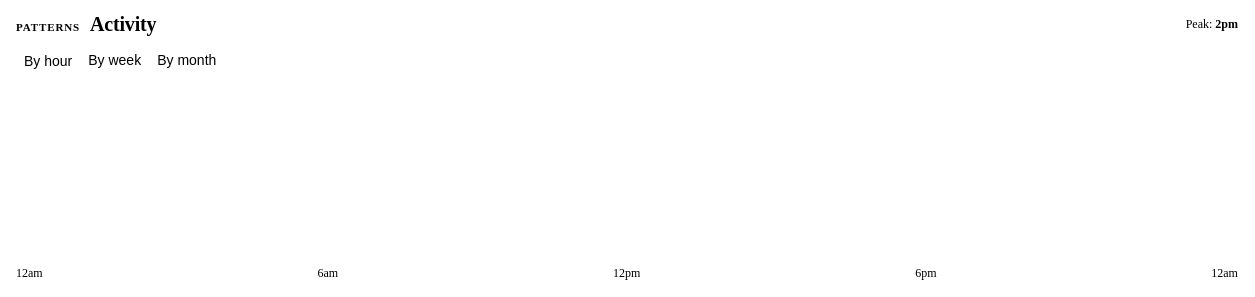
ActivitySection peak callout › shows peak weekday label on weekday tab
Step 1. Click the button with class "activity-tab" showing "By week" → (115, 61), box [80,48,149,74]
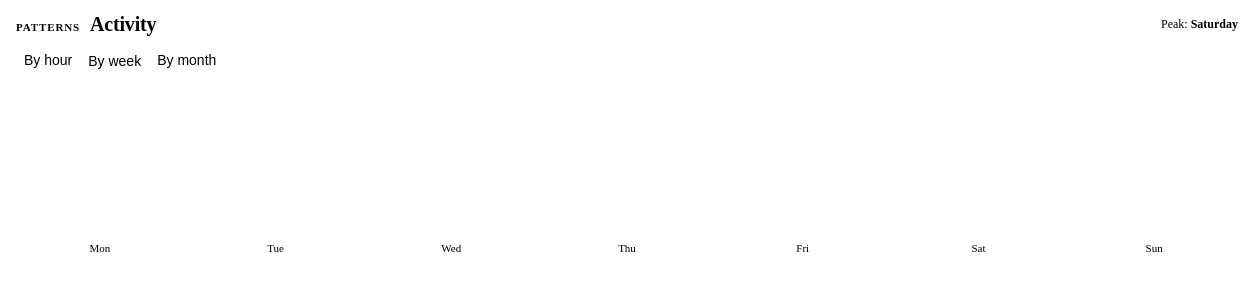
Expected: the element with class "activity-chart-peak" is shown, [1161,16,1238,32]
Now the element with class "activity-chart-peak" shows "Saturday", box [1191,16,1238,30]
